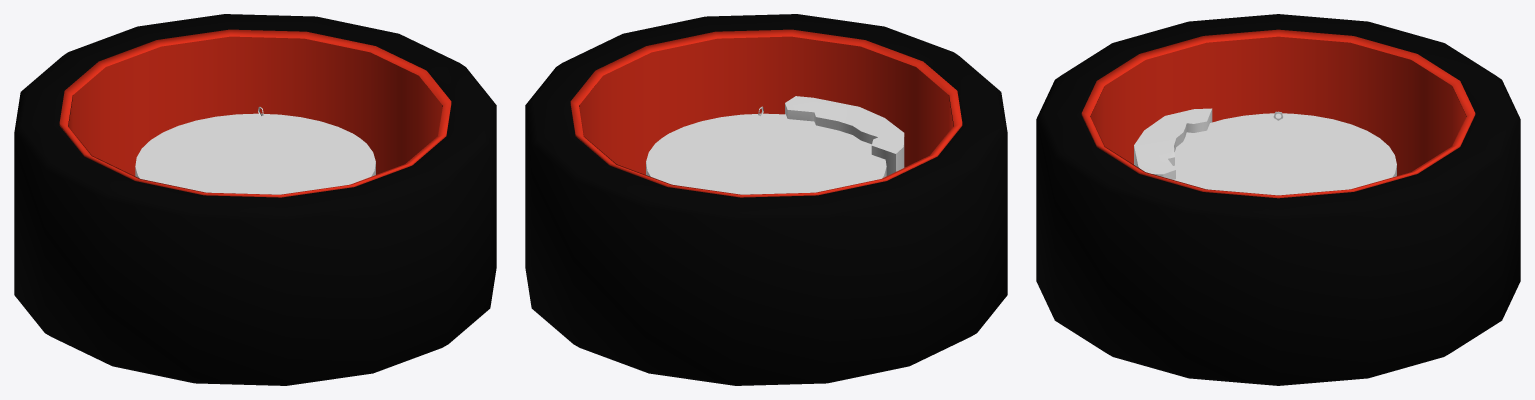
3 renders of one model, left to right at view 1: azimuth 30°, elevation 25°; view 2: azimuth 150°, elevation 25°; view 3: azimuth 270°, elevation 25°, orthographic.
Parts seen in each view (by area): view 1: FrontLeft; view 2: FrontLeft; view 3: FrontLeft.
Boxes of the visible parts, x1,y1,x2,y2 form: FrontLeft: (14, 14, 496, 385); FrontLeft: (525, 14, 1007, 385); FrontLeft: (1036, 14, 1520, 385).
Size of the model in its own units: 18.19 by 18.19 by 7.39.
